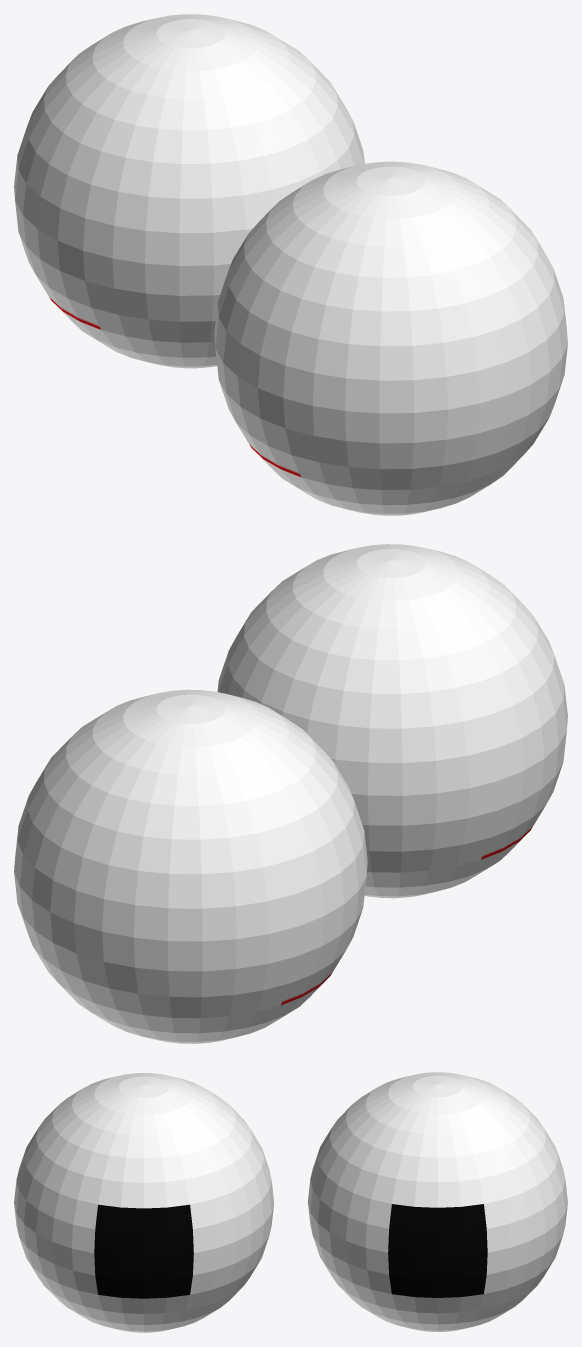
File: eyes.fbx
The picture shows the model from 3 angles, top to bottom: view 1: azimuth 30°, elevation 25°; view 2: azimuth 150°, elevation 25°; view 3: azimuth 270°, elevation 25°; orthographic projection. The views are drawn at different scales.
Visible parts, largest first — view 1: 球.002, 球.008; view 2: 球.008, 球.002; view 3: 球.008, 球.002.
Part boxes in pixels (left/top/right/bottom): 球.002: left=214, top=161, right=567, bottom=515; 球.008: left=14, top=14, right=364, bottom=368; 球.008: left=14, top=689, right=367, bottom=1043; 球.002: left=217, top=544, right=567, bottom=898; 球.008: left=308, top=1072, right=567, bottom=1331; 球.002: left=14, top=1073, right=273, bottom=1332.
Size of the model in its own units: 75.45 by 75.67 by 161.
